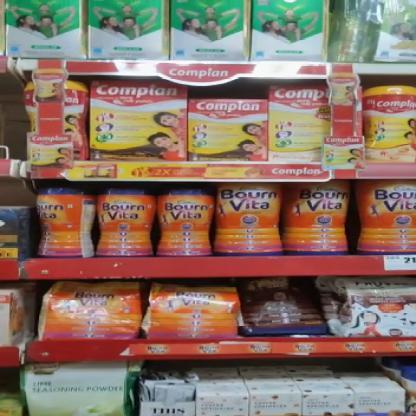Complan Kesar Badam: (267, 82, 329, 160)
Complan Royal Chocolate: (86, 78, 186, 158), (186, 96, 270, 160)
